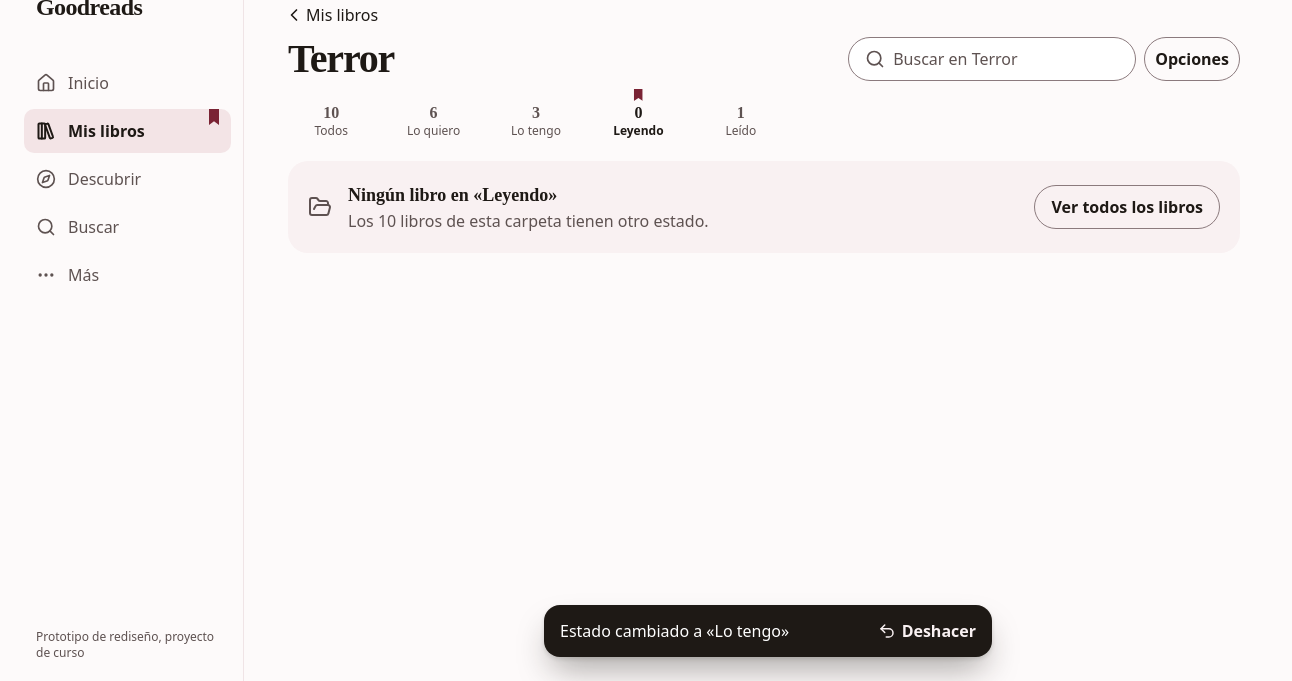
Test case: FolderPage › shows the way back to a book that left the active tag
Check: the text "Los 10 libros de esta carpeta tienen otro estado." is shown, box 348,210 -> 709,232
Click the button "Ver todos los libros" at (1127, 207), box 1034,185 -> 1220,229
(page scrolled)
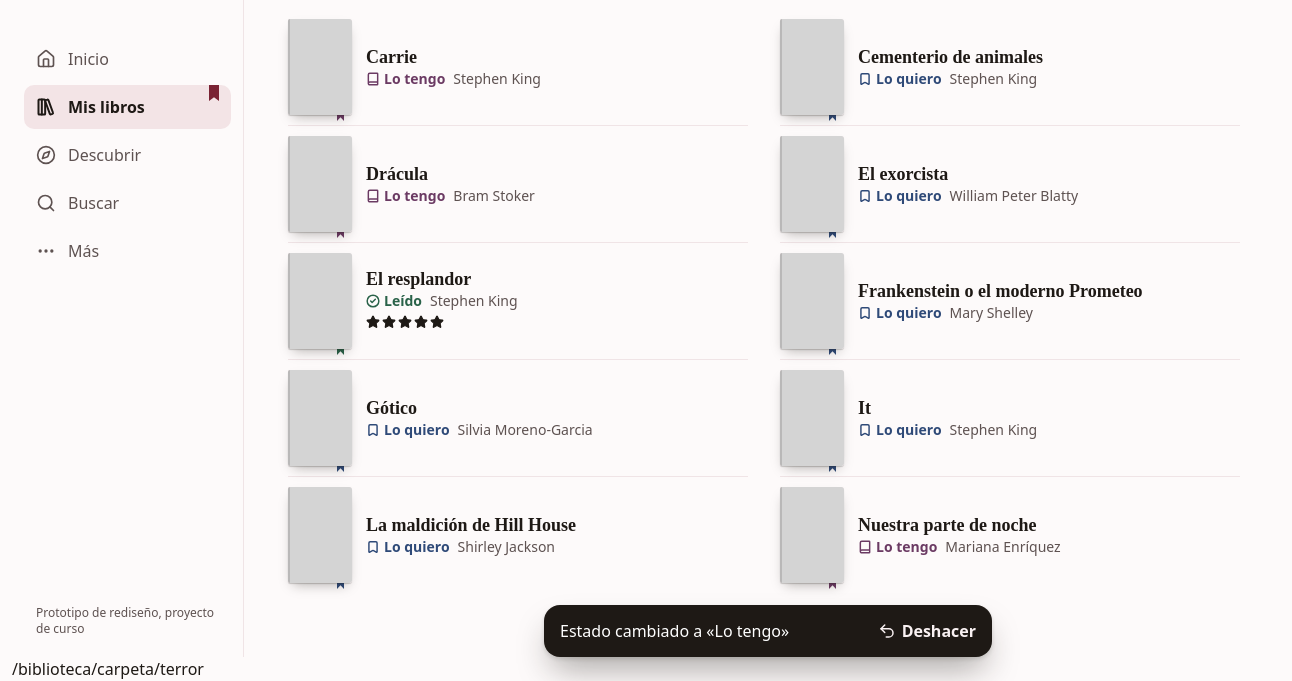
Check: the text with test id "current-location" reads "/biblioteca/carpeta/terror", box 12,658 -> 204,680
